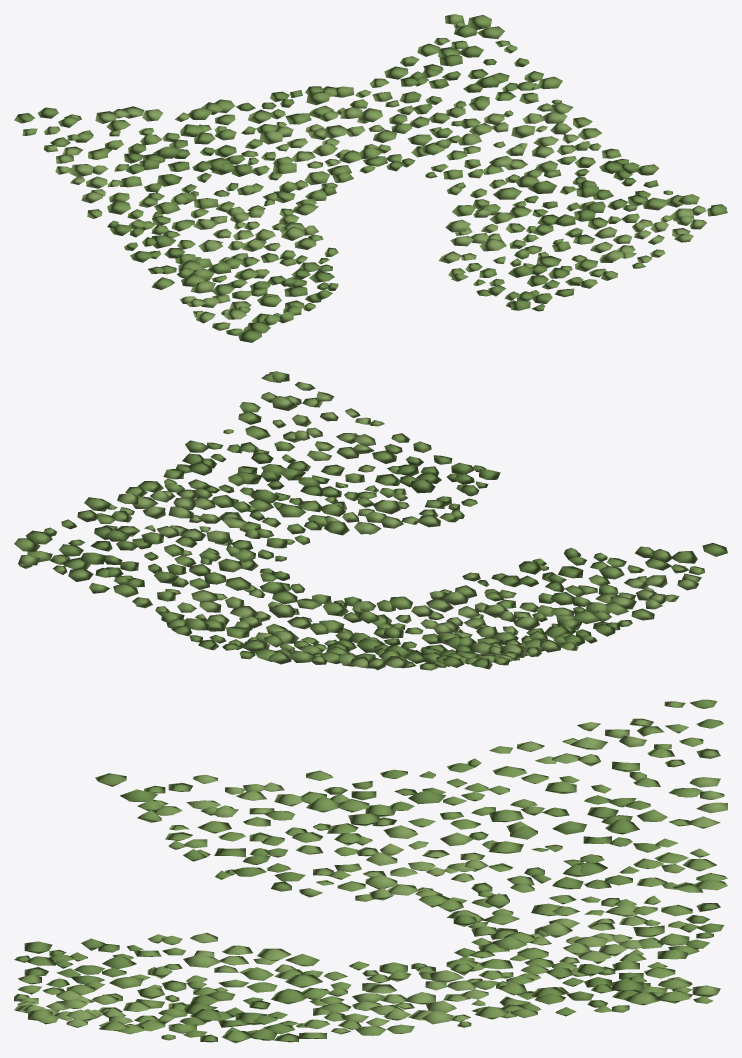
File: canopy-1-4-1.glb
The picture shows the model from 3 angles, top to bottom: view 1: azimuth 30°, elevation 25°; view 2: azimuth 150°, elevation 25°; view 3: azimuth 270°, elevation 25°; orthographic projection. The views are drawn at different scales.
Size of the model in its own units: 518 by 77.5 by 508.
Materials: 1 (1 with a texture image).
